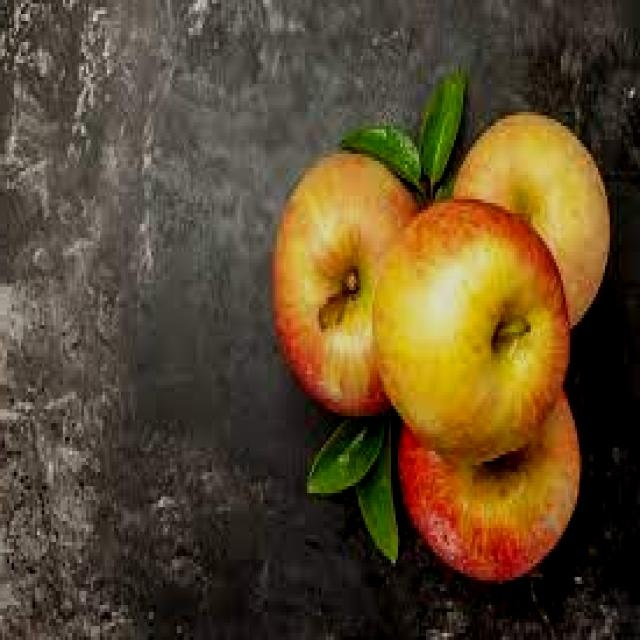agrume: (373, 160, 615, 448), (363, 312, 601, 602), (258, 110, 445, 428), (440, 81, 636, 327)
